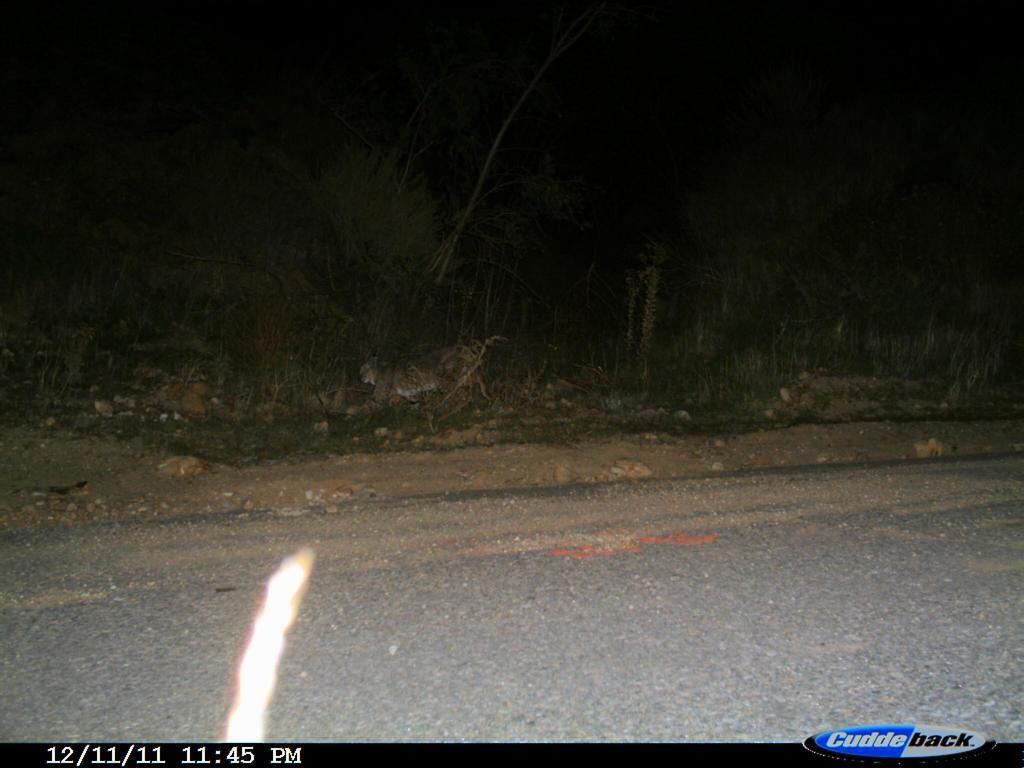bobcat: (364, 319, 524, 424)
